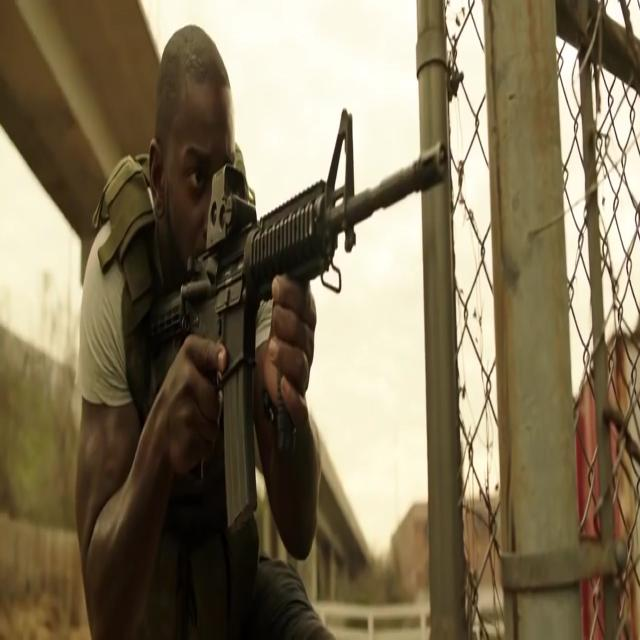Weapon: (140, 140, 415, 507)
